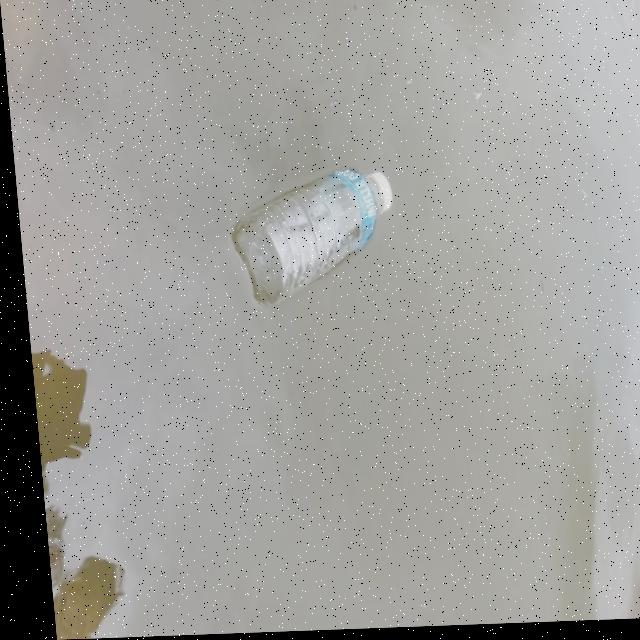waterbottle: (209, 163, 410, 312)
